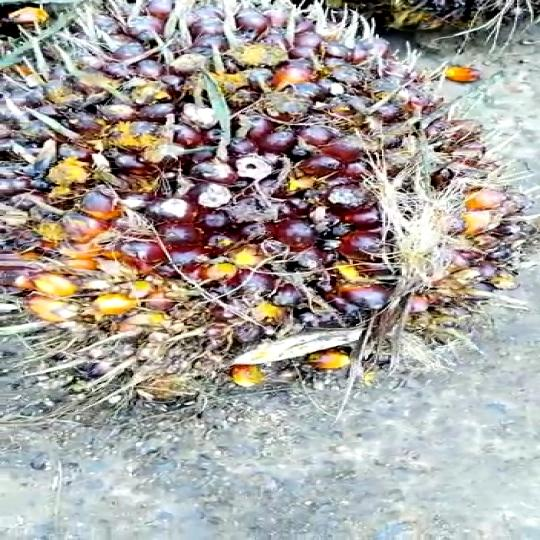masak: (0, 0, 540, 396)
